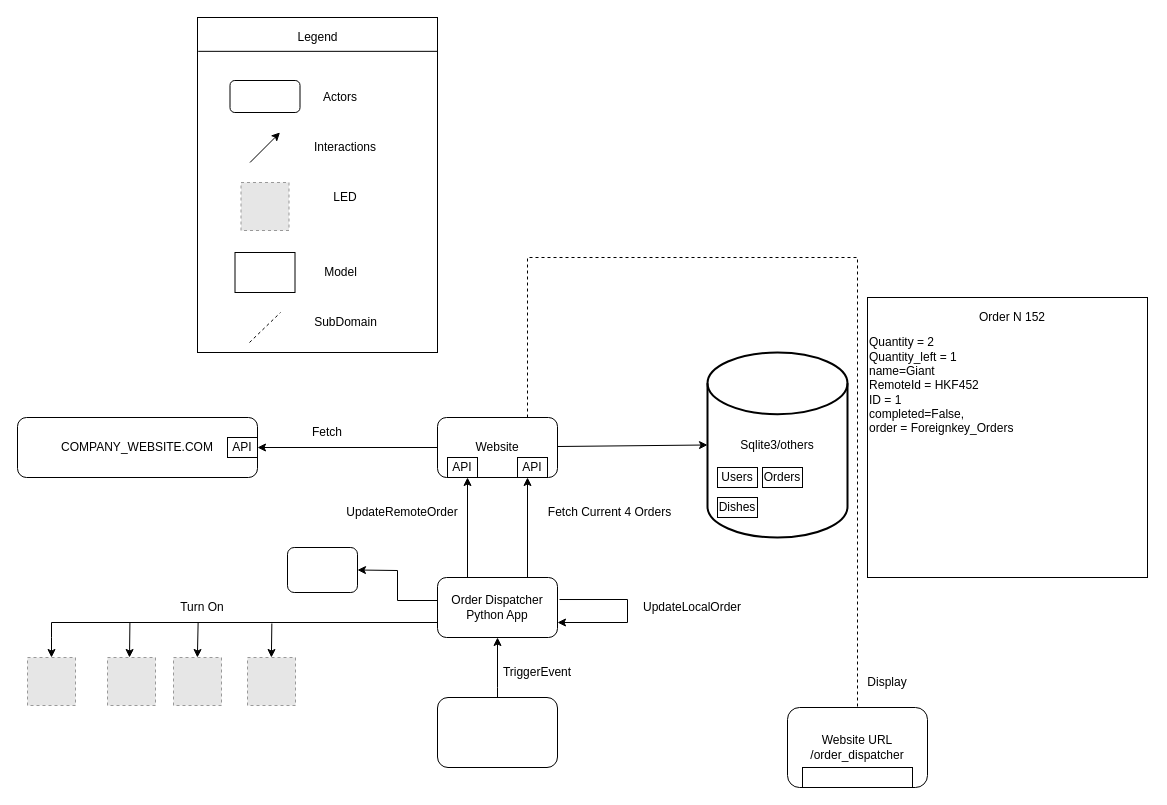
Some shapes in this 1167 by 805 pixel diagram are drawn without their labels. Grey dashed boxes stand in for pictures. The centre of each missing label's shape, as x and y in pixels:
"Auto Reload" belongs at point (857, 777).
"Caméra" belongs at point (497, 732).
"Screen" belongs at point (322, 569).
